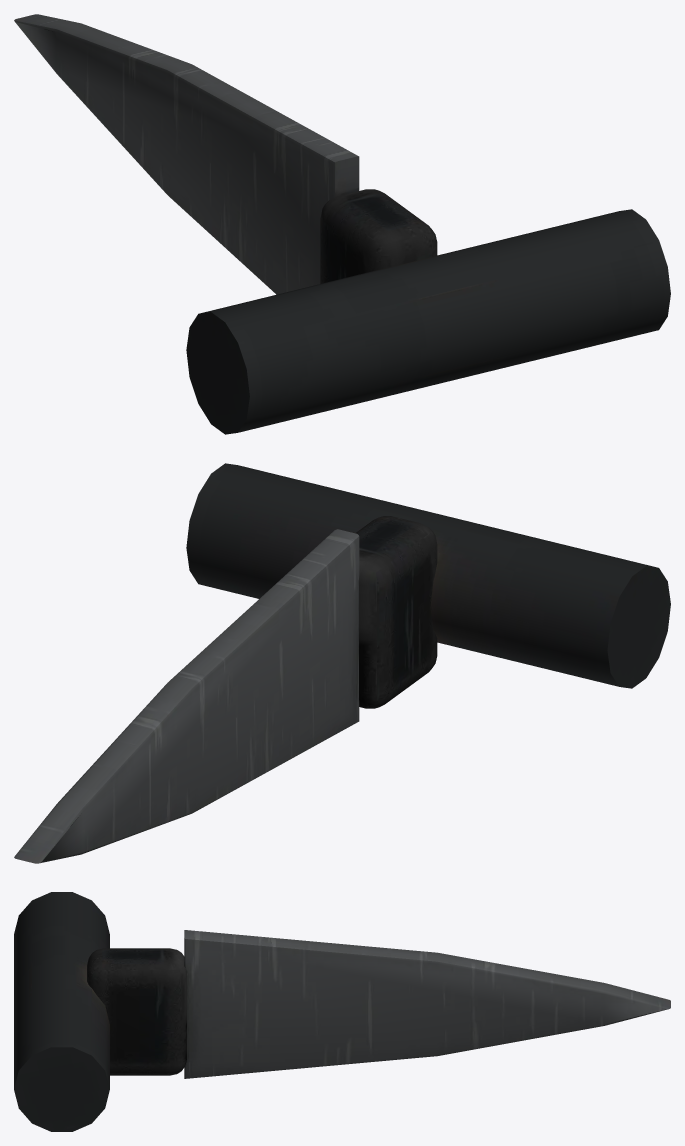
Rendered from knife_shadow.glb.
3 views of the same model, one above another, from view 1: azimuth 30°, elevation 25°; view 2: azimuth 150°, elevation 25°; view 3: azimuth 270°, elevation 25° (orthographic). The views are drawn at different scales.
Visible parts, largest first — view 1: body_furniture, body_receiver; view 2: body_receiver, body_furniture; view 3: body_receiver, body_furniture.
Part boxes in pixels (bbox=[...]): body_furniture: bbox=[186, 209, 670, 434]; body_receiver: bbox=[14, 14, 437, 294]; body_receiver: bbox=[14, 516, 437, 863]; body_furniture: bbox=[186, 463, 670, 688]; body_receiver: bbox=[87, 930, 670, 1078]; body_furniture: bbox=[14, 892, 109, 1131].
Size of the model in its own units: 0.088 by 0.0375 by 0.1575.
2 materials, 2 textured.
